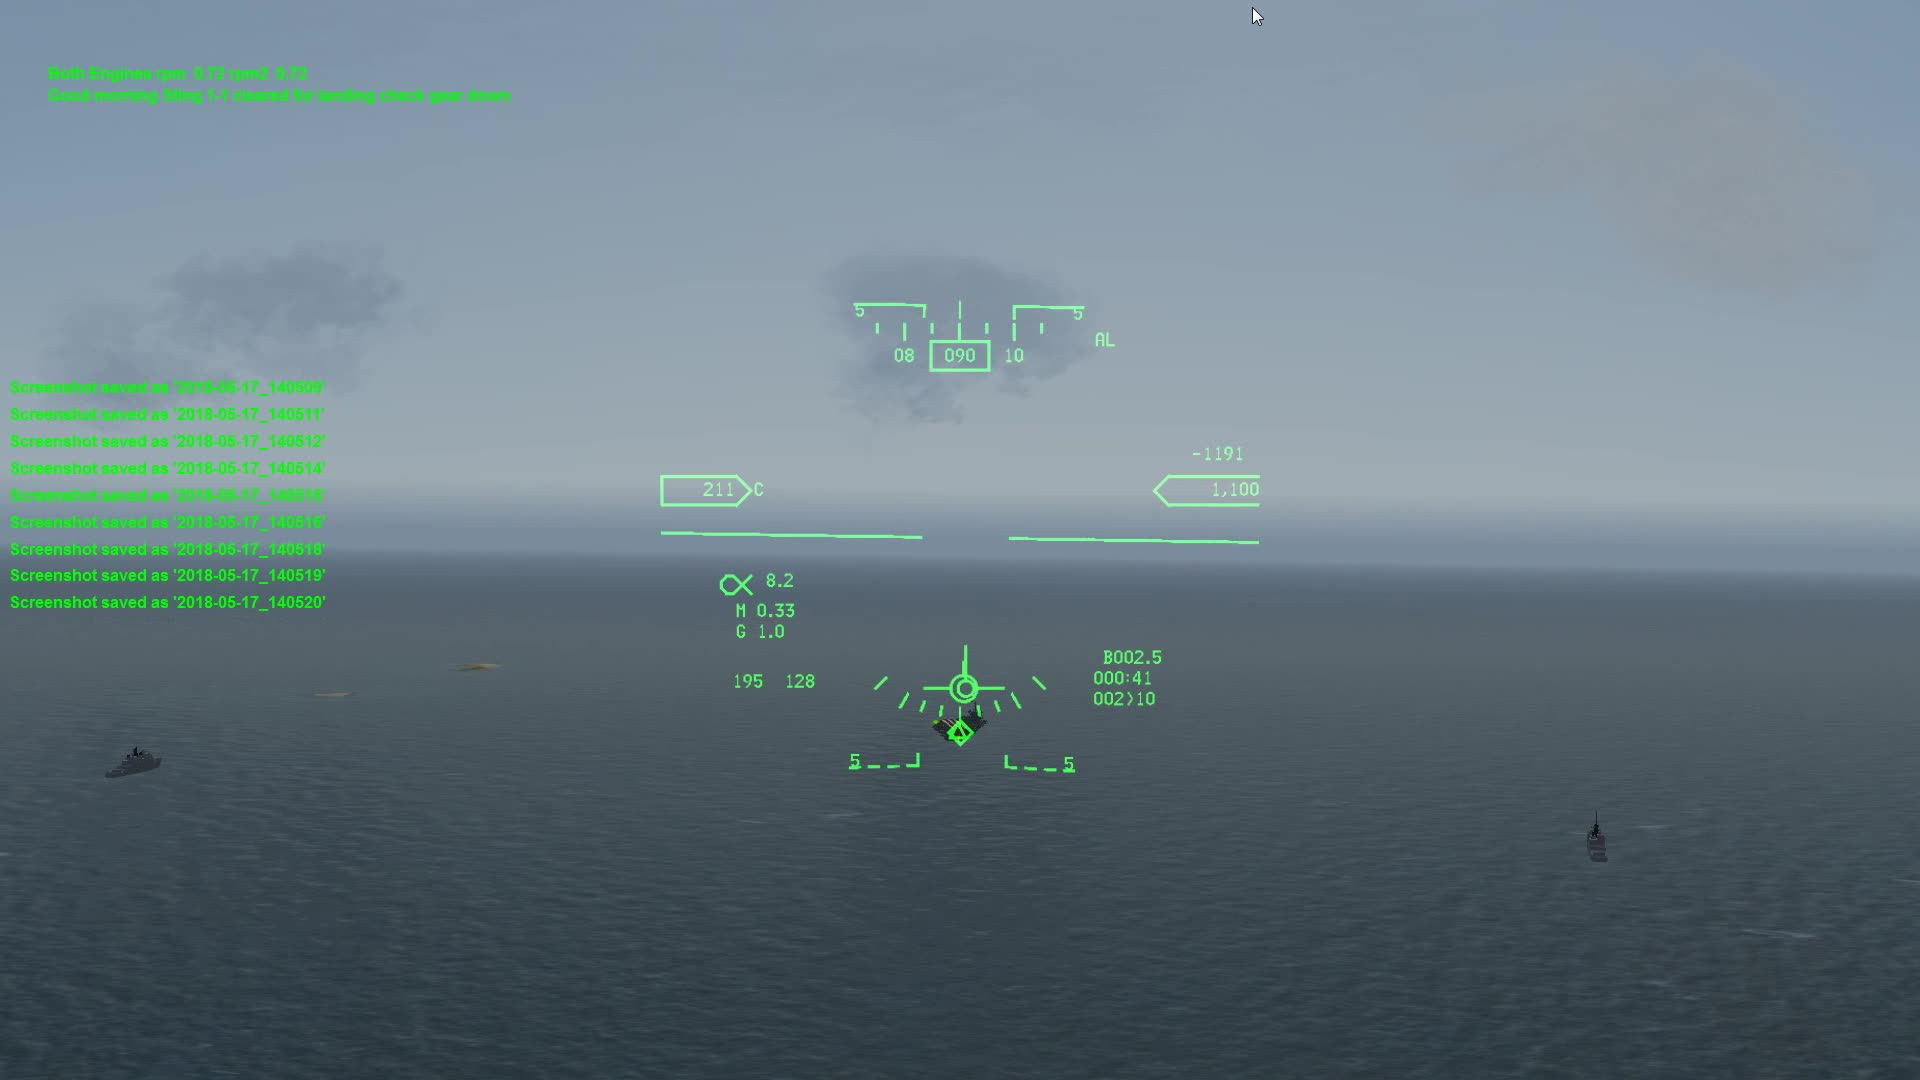speed vector: (928, 632, 1026, 703)
